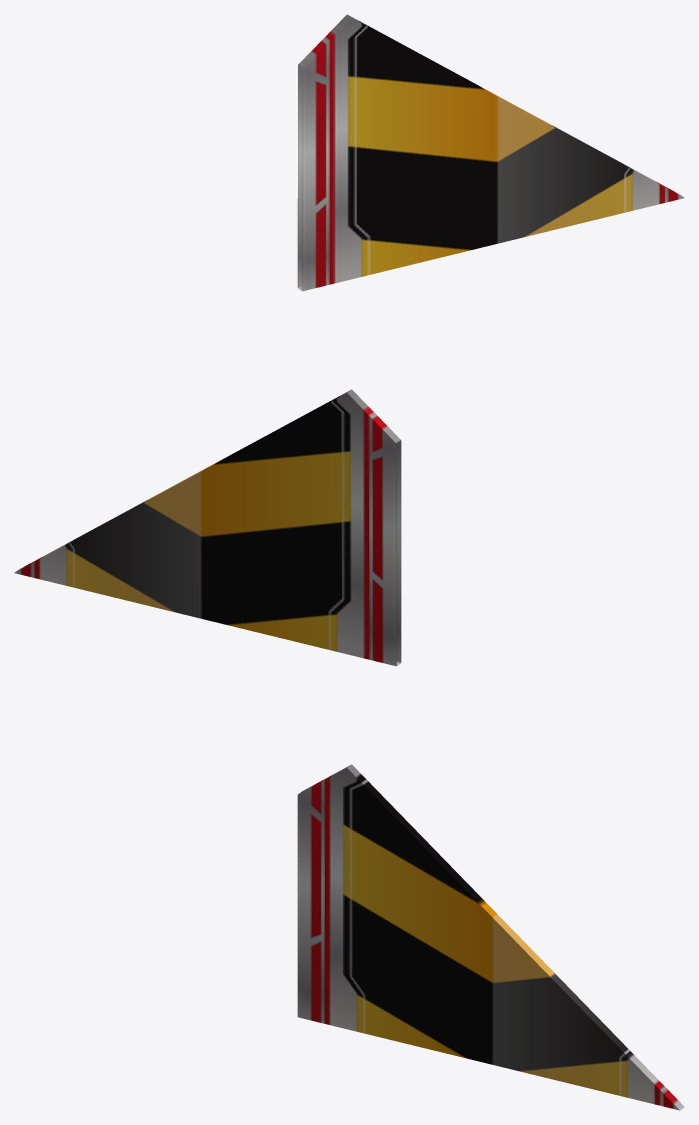
Rendered from kdratriangleone.glb.
The picture shows the model from 3 angles, top to bottom: view 1: azimuth 30°, elevation 25°; view 2: azimuth 150°, elevation 25°; view 3: azimuth 330°, elevation 25°; orthographic projection.
Visible parts, largest first — view 1: KDRATriangleOne; view 2: KDRATriangleOne; view 3: KDRATriangleOne.
Part boxes in pixels (<box>): KDRATriangleOne: <box>297,14,684,291</box>; KDRATriangleOne: <box>14,389,401,666</box>; KDRATriangleOne: <box>297,764,684,1110</box>.
Size of the model in its own units: 0.8 by 0.3 by 0.01.
1 material, 1 textured.
